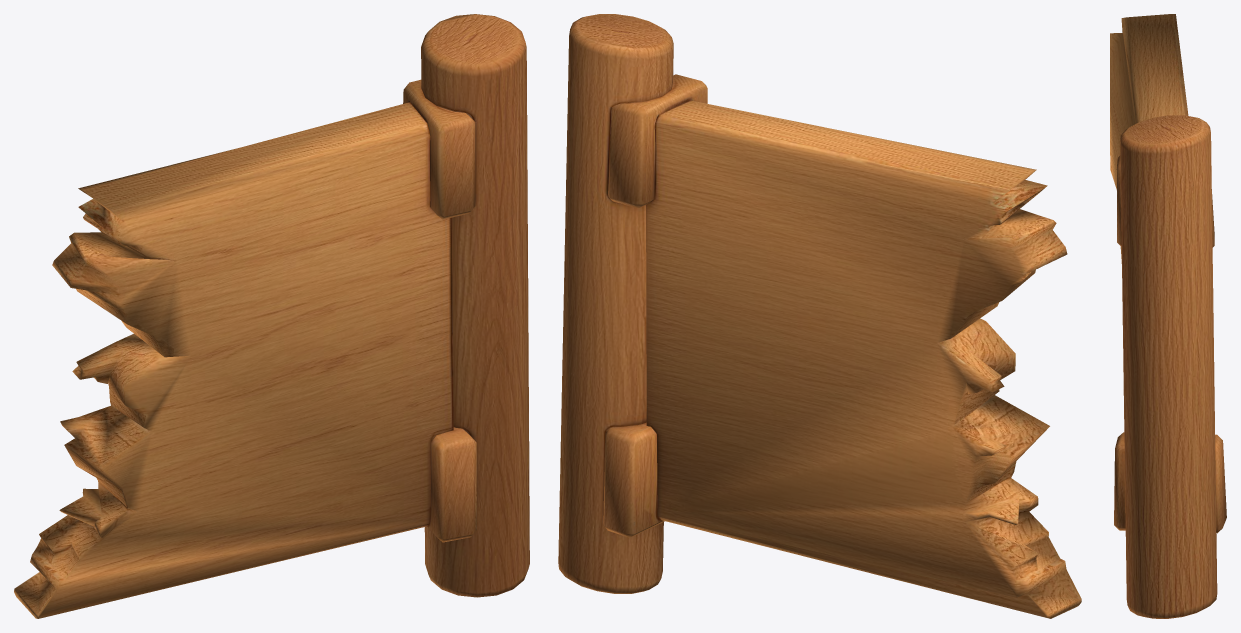
The model's file is board-right.glb.
The picture shows the model from 3 angles, left to right: view 1: azimuth 30°, elevation 25°; view 2: azimuth 150°, elevation 25°; view 3: azimuth 270°, elevation 25°; orthographic projection. The views are drawn at different scales.
Visible parts, largest first — view 1: tripo_node_56c1fc76-2c5b-47d2-8a83-6244399438e7; view 2: tripo_node_56c1fc76-2c5b-47d2-8a83-6244399438e7; view 3: tripo_node_56c1fc76-2c5b-47d2-8a83-6244399438e7.
Boxes of the visible parts, left/top/right/bottom form: tripo_node_56c1fc76-2c5b-47d2-8a83-6244399438e7: left=14, top=14, right=529, bottom=618; tripo_node_56c1fc76-2c5b-47d2-8a83-6244399438e7: left=558, top=14, right=1081, bottom=618; tripo_node_56c1fc76-2c5b-47d2-8a83-6244399438e7: left=1110, top=14, right=1226, bottom=618.
Size of the model in its own units: 0.9438 by 0.9995 by 0.2192.
Materials: 1 (1 with a texture image).
